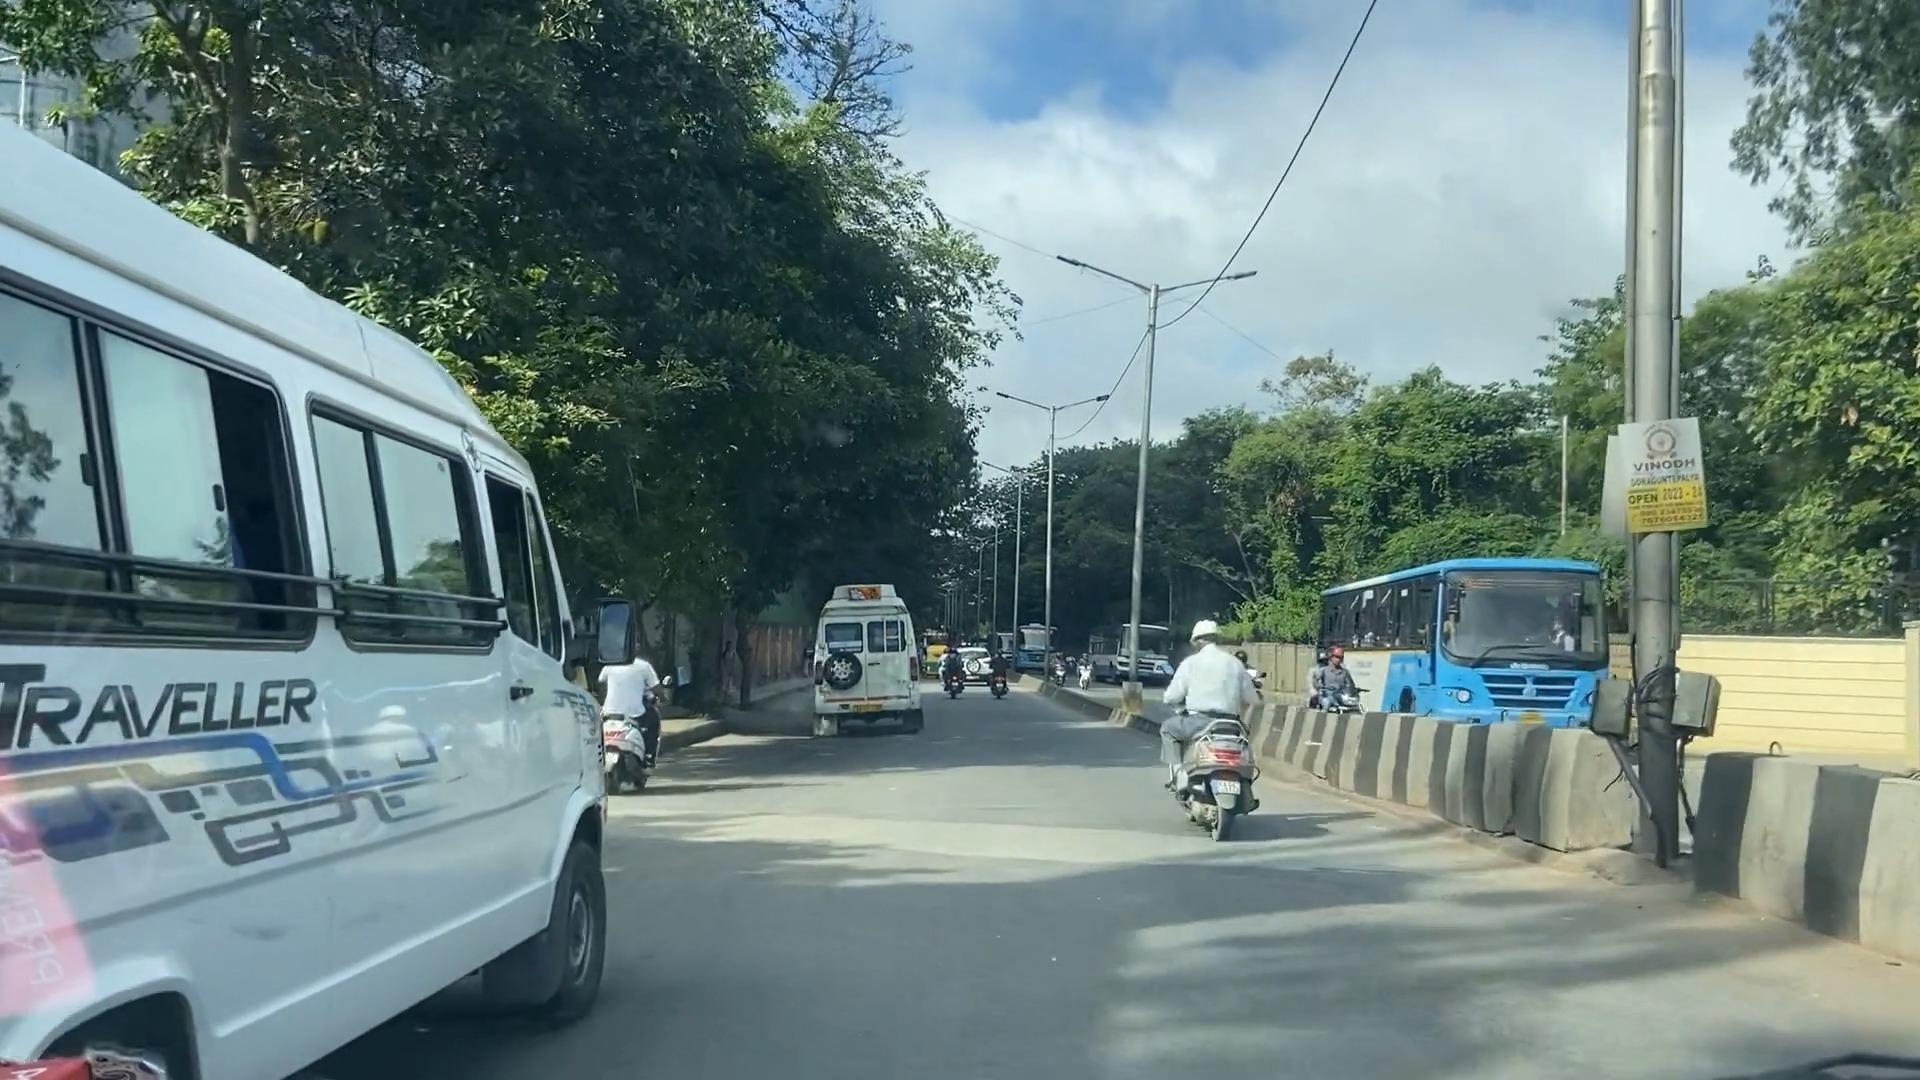HMV: (3, 117, 613, 1080), (818, 578, 926, 757)
LMV: (1163, 628, 1287, 864), (621, 655, 666, 804)
